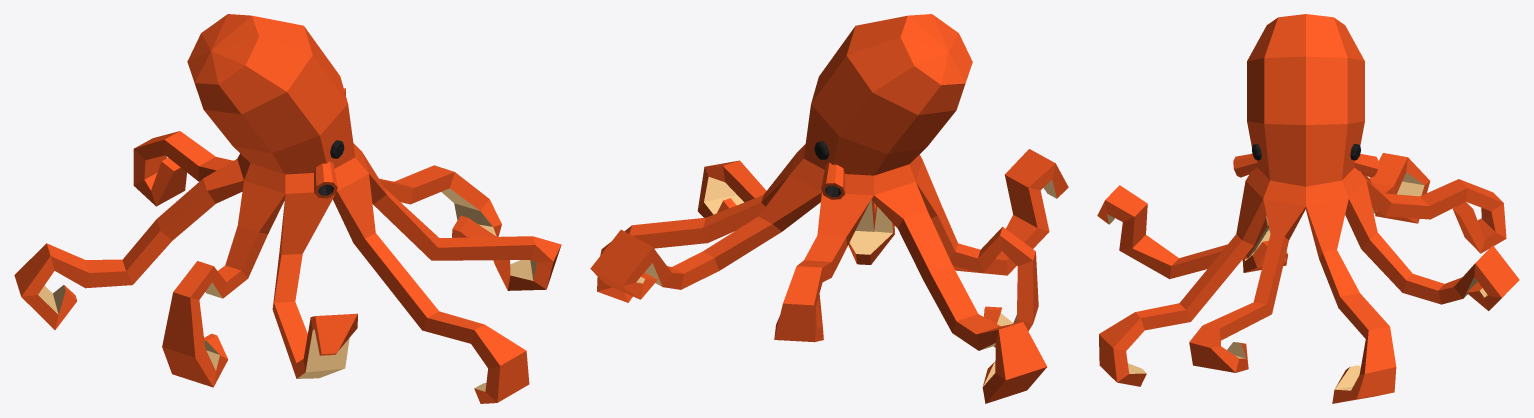
File: 6KQsV8qo5E0.glb
3 renders of one model, left to right at view 1: azimuth 30°, elevation 25°; view 2: azimuth 150°, elevation 25°; view 3: azimuth 270°, elevation 25°, orthographic. The views are drawn at different scales.
Visible parts, largest first — view 1: Octopus_01_Circle.007; view 2: Octopus_01_Circle.007; view 3: Octopus_01_Circle.007.
Boxes of the visible parts, left/top/right/bottom form: Octopus_01_Circle.007: left=14, top=14, right=561, bottom=403; Octopus_01_Circle.007: left=590, top=14, right=1068, bottom=403; Octopus_01_Circle.007: left=1097, top=14, right=1519, bottom=403.
Bounding box in the file's own units: 12.03 × 8.69 × 10.71.
